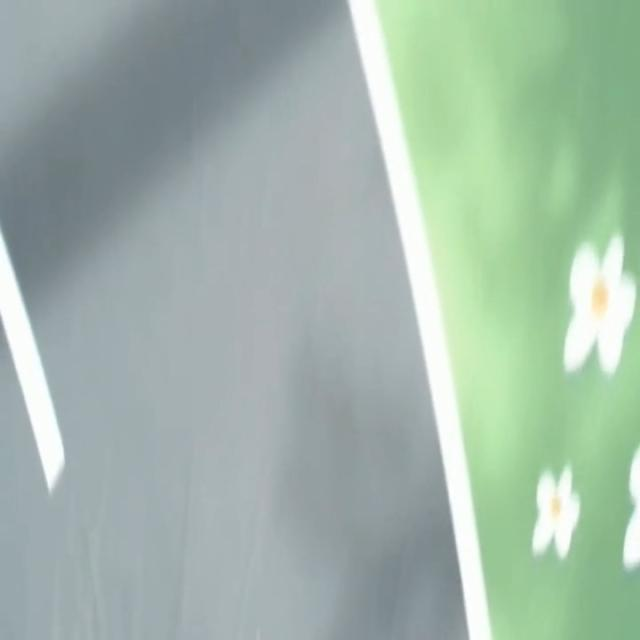center: (0, 228, 64, 492)
right: (349, 0, 492, 639)
